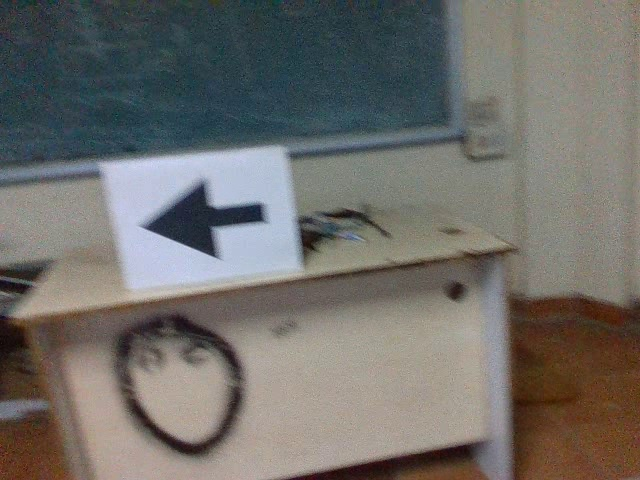Left: (132, 177, 266, 265)
